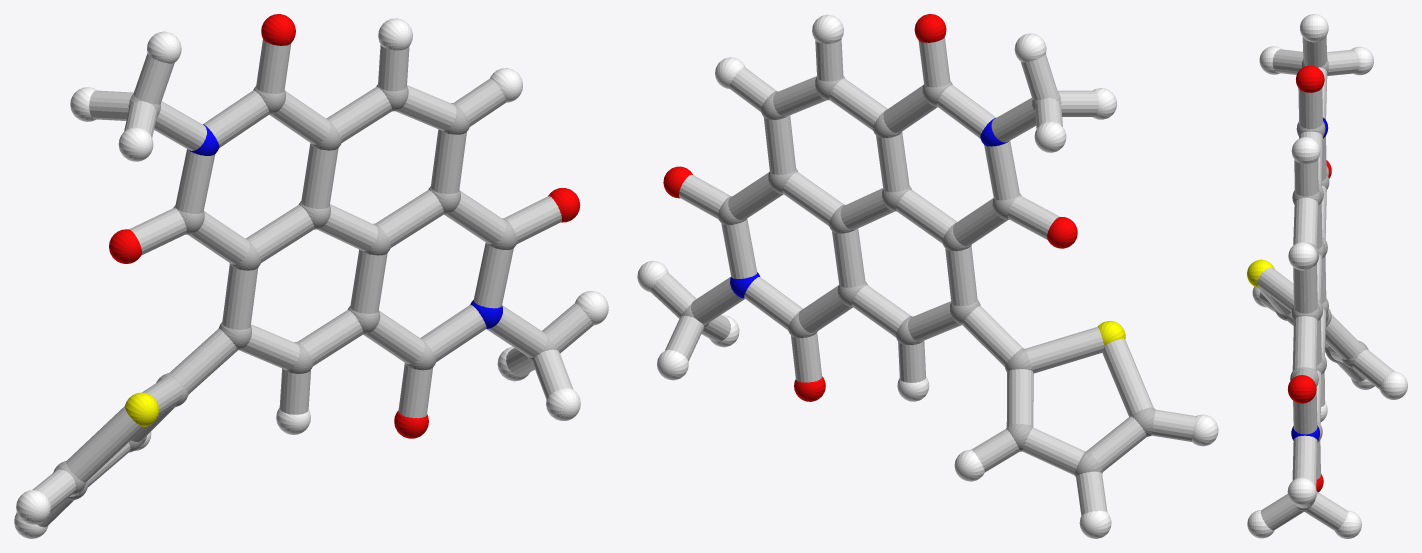
Rendered from Dimethyl_Naphthalene_Dicarboximide_Phi_0_Theta_130_Thiophene.glb.
3 renders of one model, left to right at view 1: azimuth 30°, elevation 25°; view 2: azimuth 150°, elevation 25°; view 3: azimuth 270°, elevation 25°, orthographic. The views are drawn at different scales.
Visible parts, largest first — view 1: grp14119, grp7241, grp1, grp12309, grp13757, grp11585; view 2: grp14119, grp7241, grp1, grp12309, grp11585; view 3: grp14119, grp7241, grp1, grp12309, grp13757, grp11585.
Part boxes in pixels (left/top/right/bottom): grp14119: left=32, top=39, right=593, bottom=527; grp7241: left=14, top=18, right=608, bottom=538; grp1: left=53, top=84, right=557, bottom=500; grp12309: left=109, top=14, right=580, bottom=438; grp13757: left=124, top=392, right=158, bottom=426; grp11585: left=189, top=124, right=502, bottom=328; grp14119: left=650, top=37, right=1195, bottom=515; grp7241: left=637, top=14, right=1218, bottom=538; grp1: left=681, top=75, right=1155, bottom=476; grp12309: left=663, top=14, right=1077, bottom=401; grp11585: left=730, top=118, right=1008, bottom=298; grp14119: left=1257, top=36, right=1394, bottom=530; grp7241: left=1247, top=14, right=1407, bottom=538; grp1: left=1275, top=59, right=1368, bottom=511; grp12309: left=1287, top=65, right=1331, bottom=492; grp13757: left=1247, top=259, right=1274, bottom=288; grp11585: left=1291, top=117, right=1328, bottom=440.
Size of the model in its own units: 12.1 by 9.53 by 3.35.
